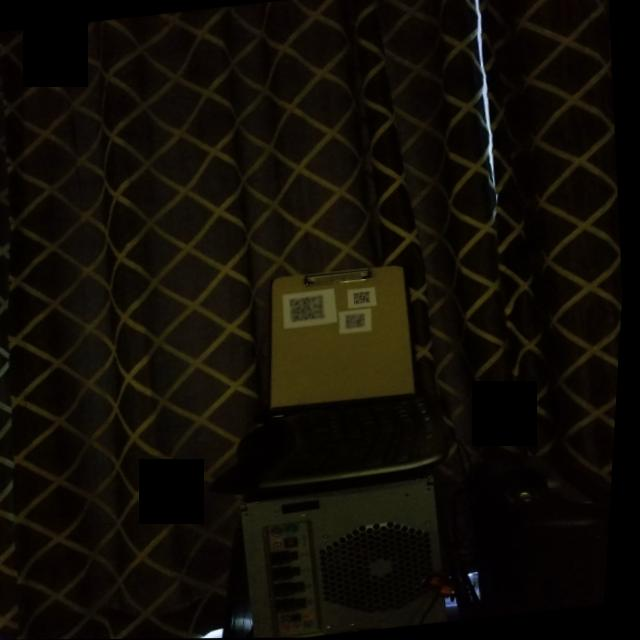QR_CODE: (284, 289, 335, 329), (342, 309, 380, 339), (352, 284, 379, 307)
